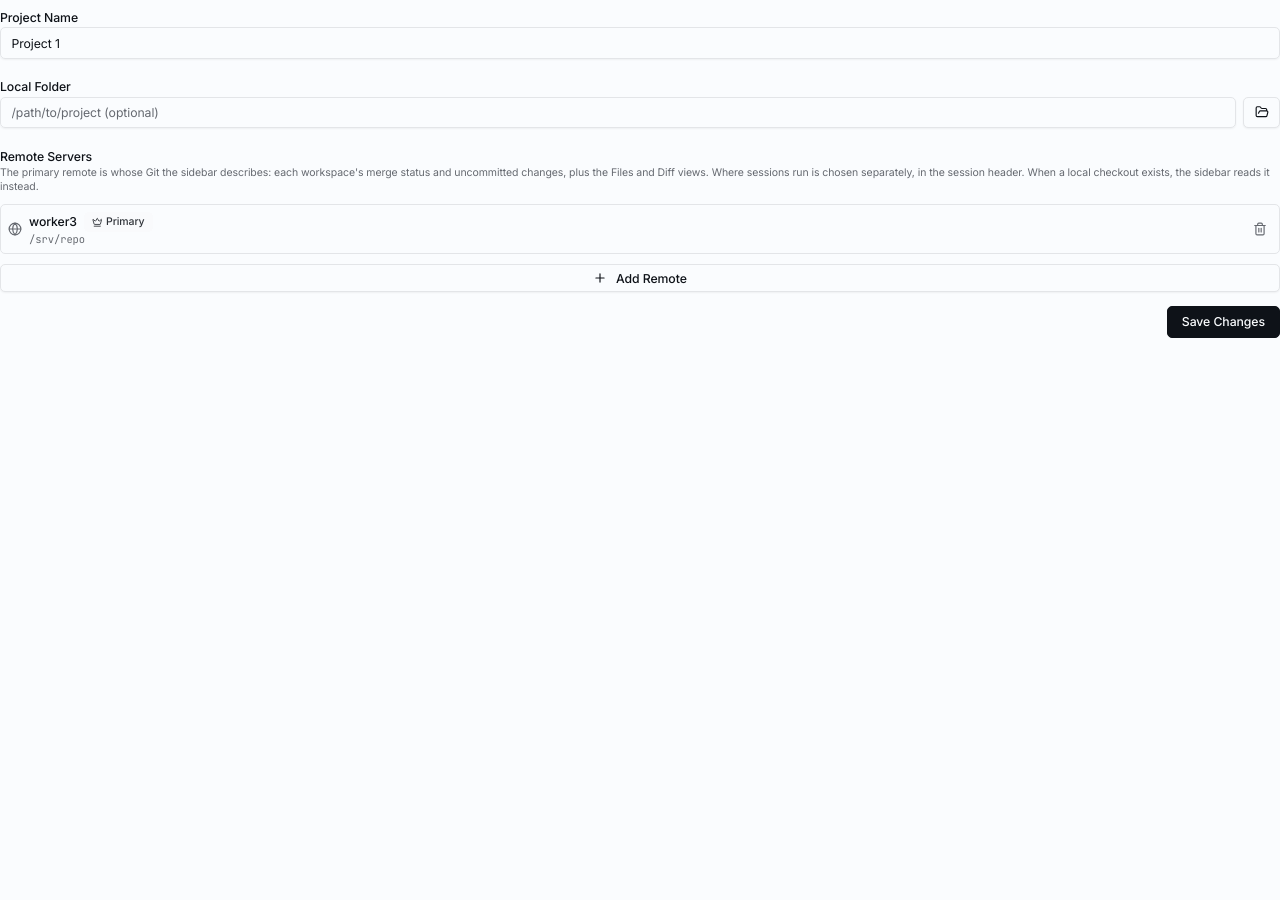
it: ProjectSettingsForm unlink guard › explains confirmed usage and offers no override
The image size is (1280, 900).
Click the button named "Unlink worker3": (1260, 229) [1248,217,1272,241]
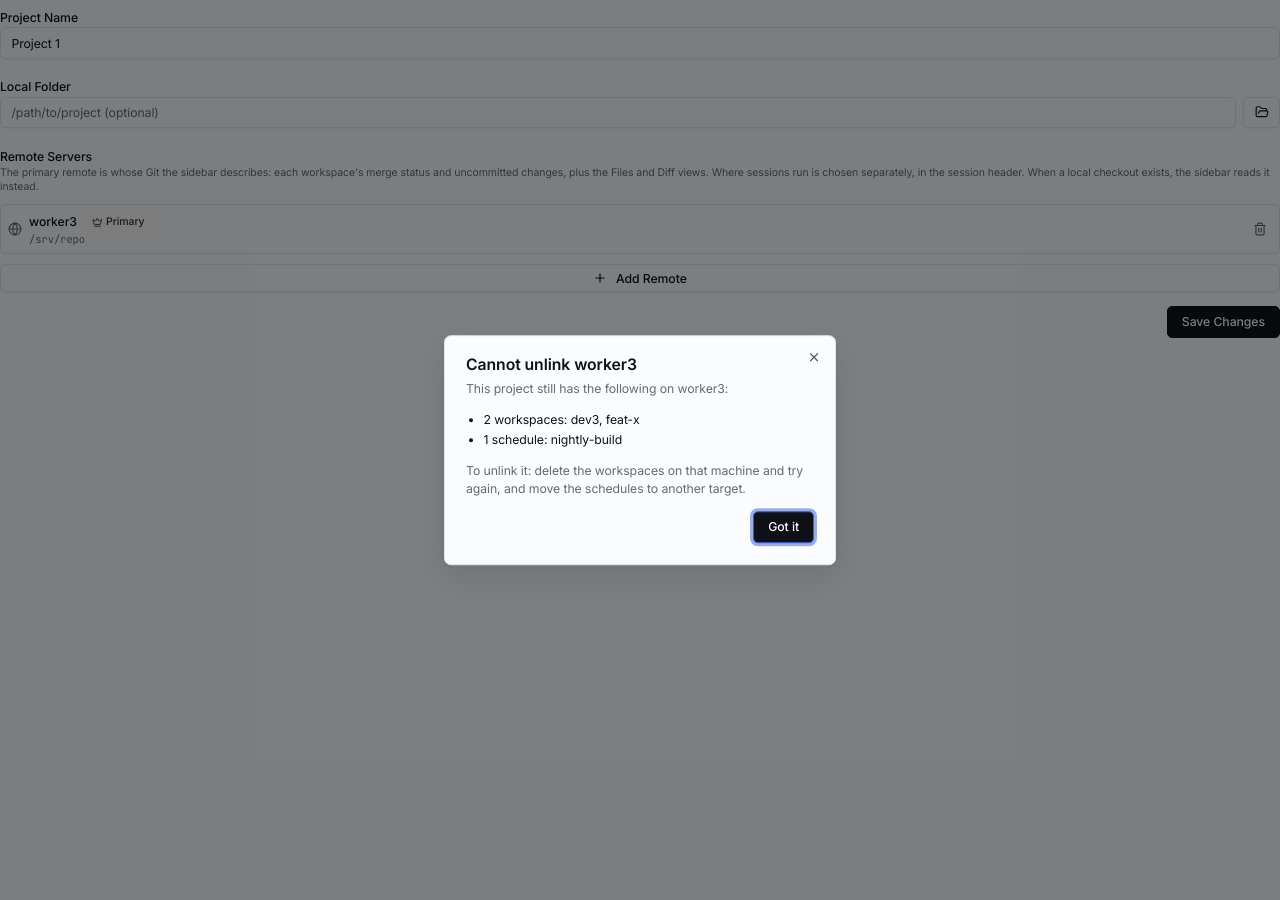
Now the text "Cannot unlink worker3" is shown, box [466,355,637,374]
Now the text "2 workspaces: dev3, feat-x" is shown, box [484,412,640,428]
Now the text "1 schedule: nightly-build" is shown, box [484,432,622,447]
Click the button "Got it": (784, 527) [753,511,814,543]
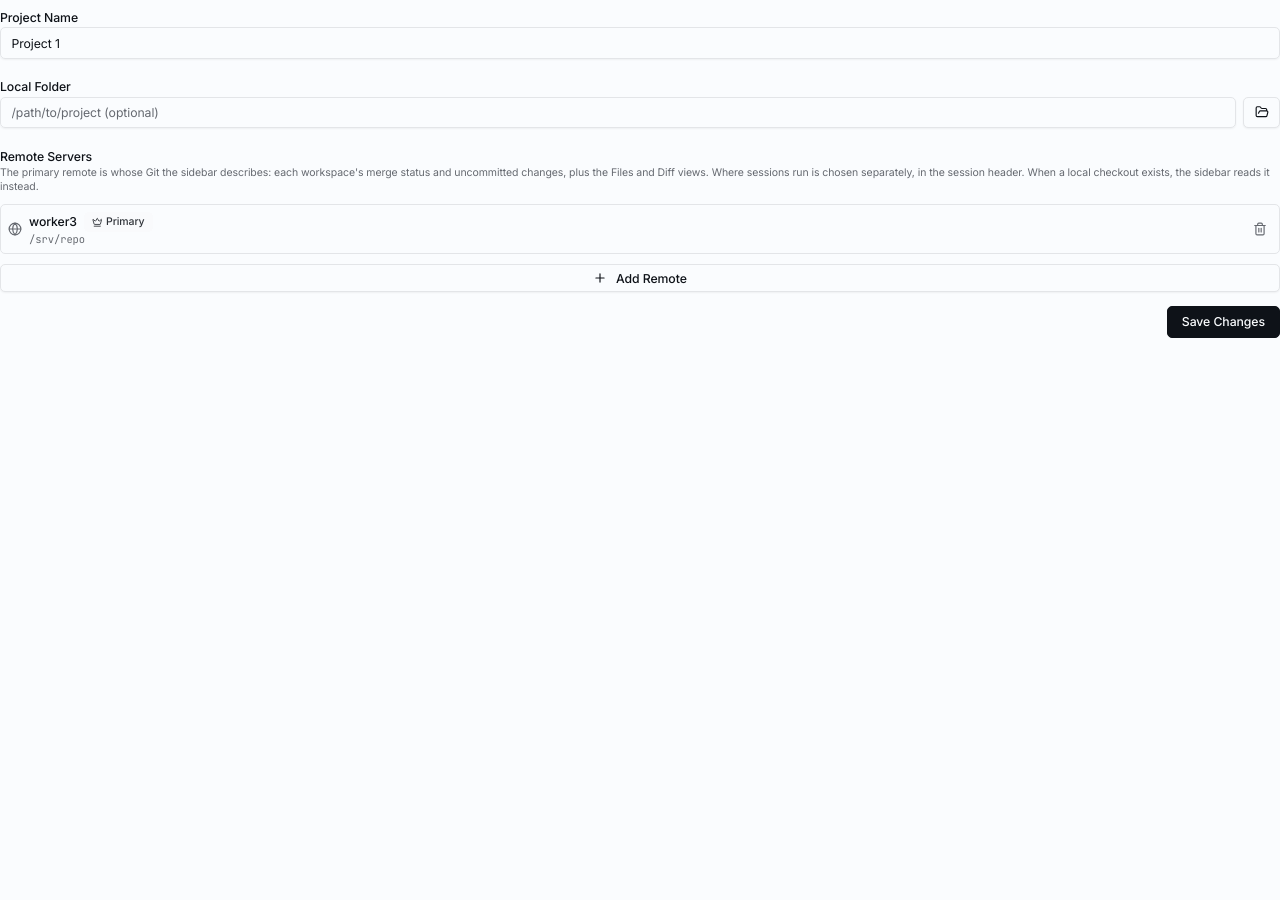
Now the text "Cannot unlink worker3" is gone
